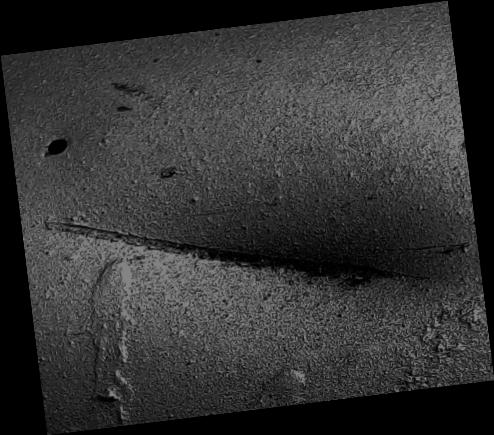dent: (0, 1, 493, 435)
